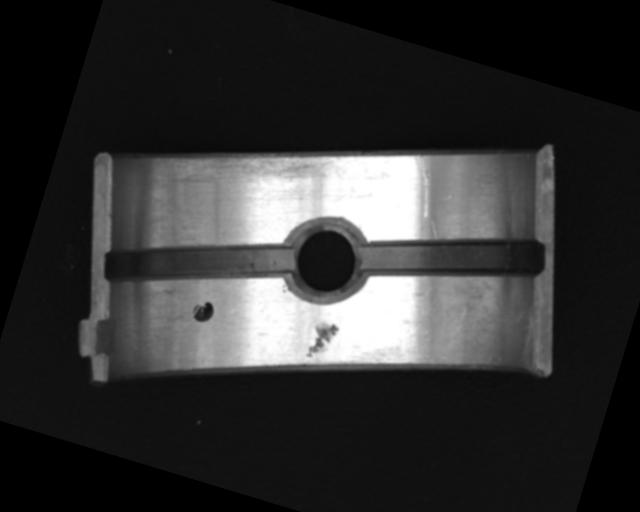blot: (190, 298, 216, 326)
bruise: (304, 318, 340, 364)
gap: (97, 194, 297, 329), (357, 194, 547, 319)
hole: (275, 209, 376, 306)
nick: (399, 151, 444, 217)
scratch: (162, 109, 341, 226)
